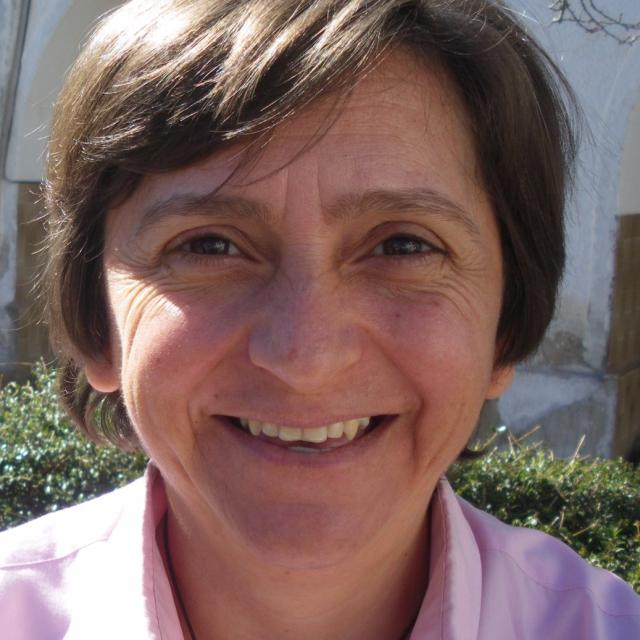Normal: (108, 45, 503, 566)
